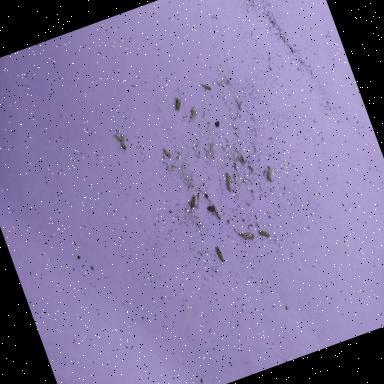pbw: (238, 229, 256, 244), (115, 132, 128, 152), (222, 172, 234, 190), (172, 97, 184, 113), (187, 194, 199, 210), (188, 106, 200, 122), (215, 245, 225, 263), (264, 166, 276, 180), (213, 204, 222, 220), (258, 228, 270, 240), (163, 146, 172, 160), (202, 81, 212, 92), (240, 152, 246, 164)
